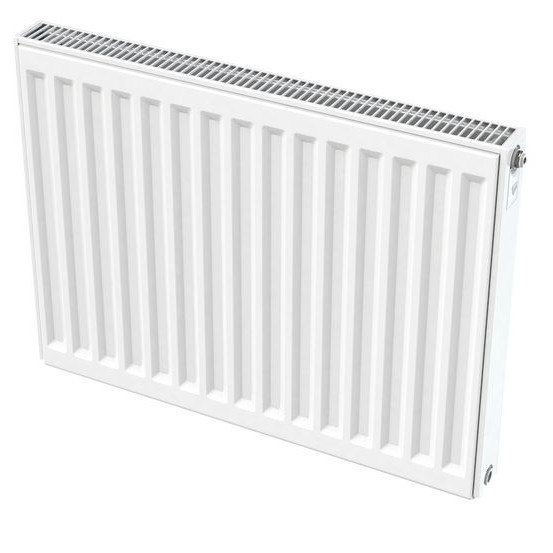Radiator: (9, 17, 531, 504)
